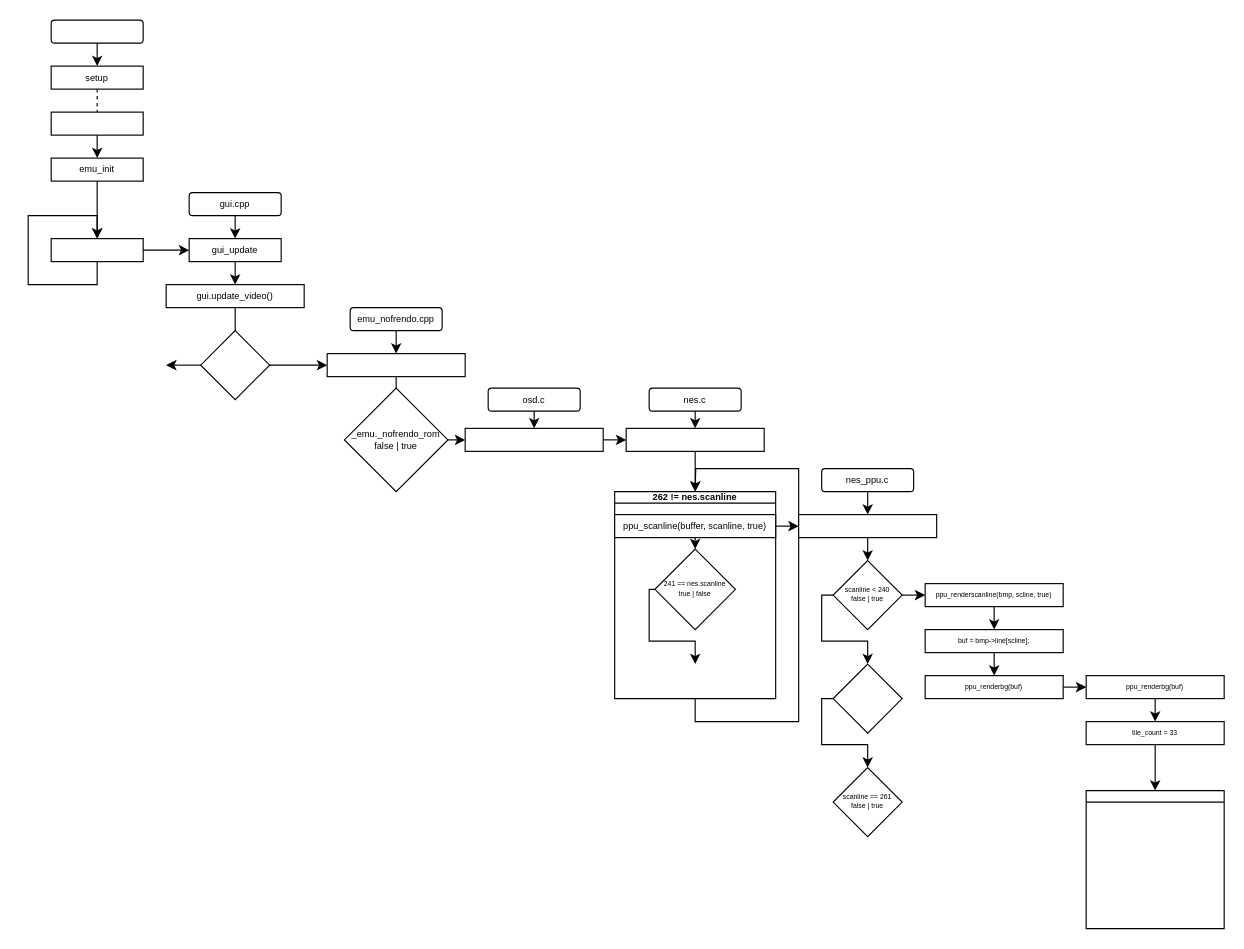
This 1244x949 diagram has some shape labels left out. Here are the shapes that lost their labels. From the top down, the centre of each, then its label:
(96,31): ino
(96,123): emu_task
(96,249): emu_loop
(235,364): gui._visible false | true
(395,364): _emu->update()
(533,439): _lines = nes_emulate_frame(true);
(694,439): nes_renderframe(true)
(867,525): ppu_scanline(bmp, scline, true)
(867,698): scanline == 241 false | true
(1154,859): tile_count-- > 0
